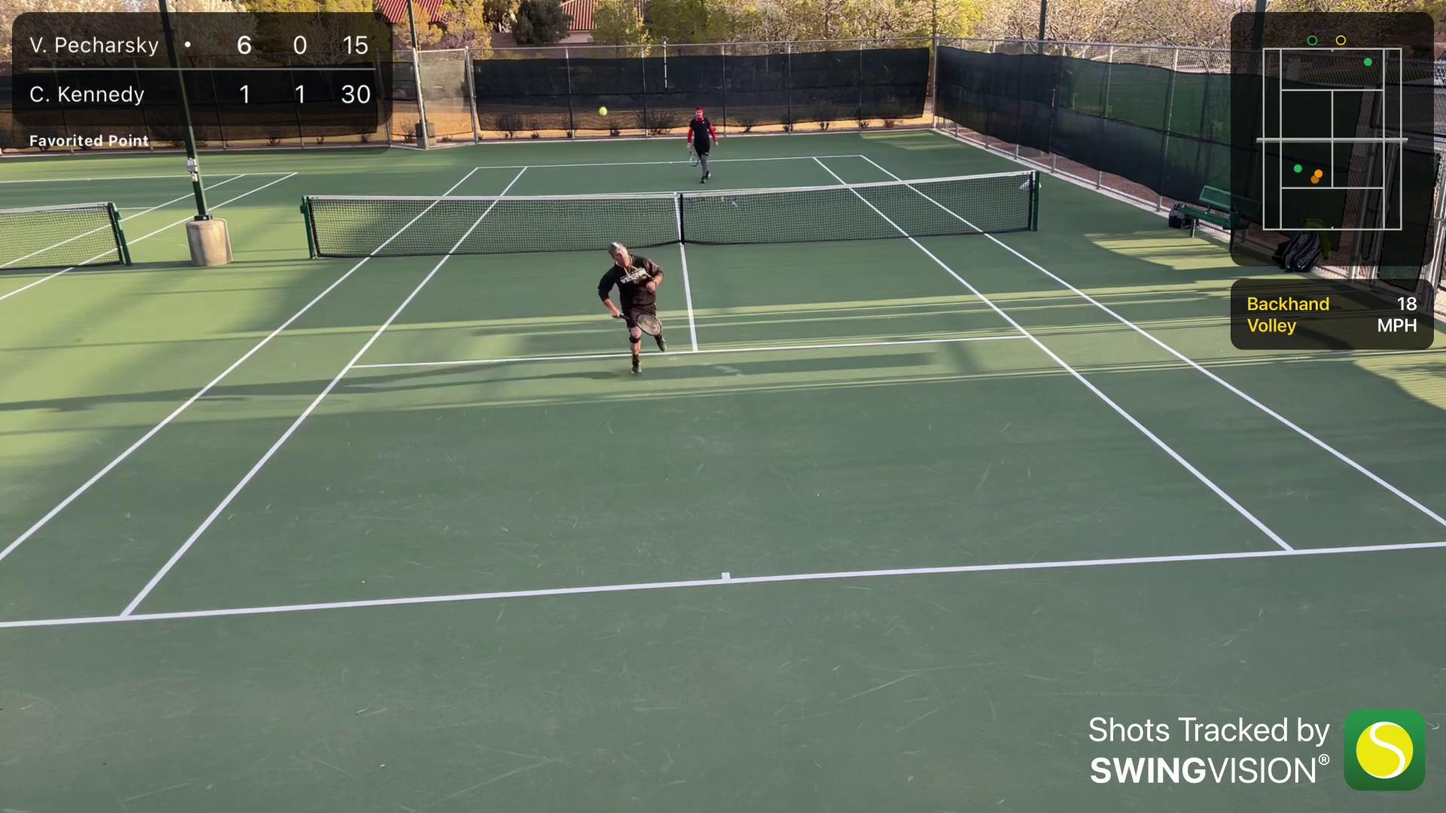ball: (596, 105, 607, 117)
